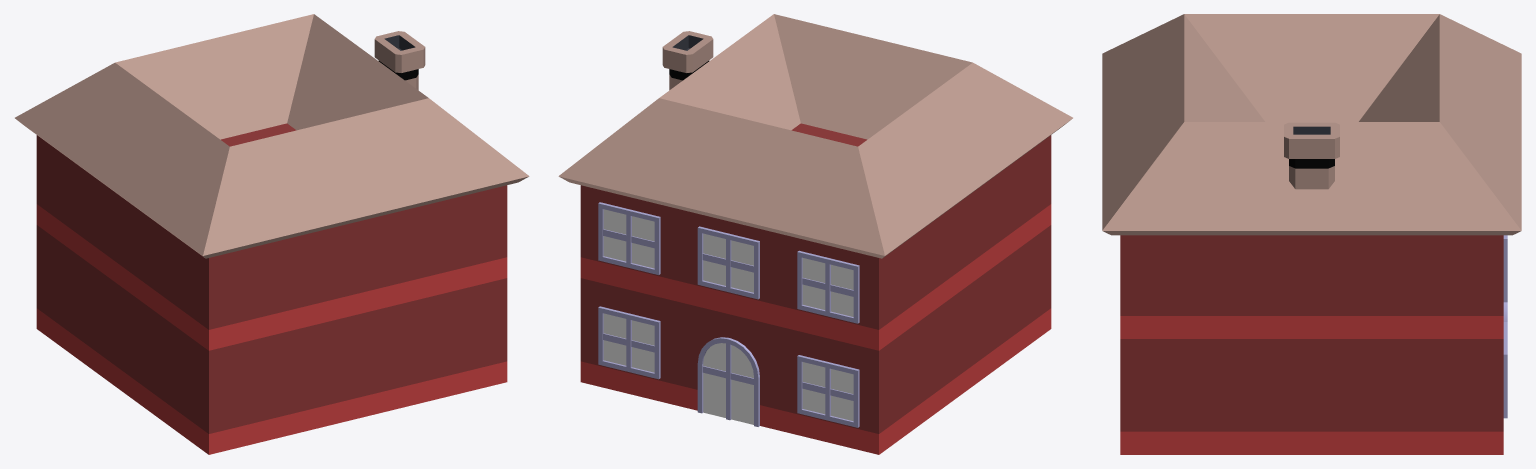
Rendered from small_house_red.fbx.
3 views of the same model, side by side, from view 1: azimuth 30°, elevation 25°; view 2: azimuth 150°, elevation 25°; view 3: azimuth 270°, elevation 25° (orthographic). The views are drawn at different scales.
Visible parts, largest first — view 1: mergedBlocks; view 2: mergedBlocks; view 3: mergedBlocks.
Part boxes in pixels (box(x1,y1,x2,y2)): mergedBlocks: box(15, 14, 529, 454); mergedBlocks: box(558, 14, 1072, 454); mergedBlocks: box(1102, 14, 1521, 454).
Bounding box in the file's own units: 32.83 × 27 × 32.83.
